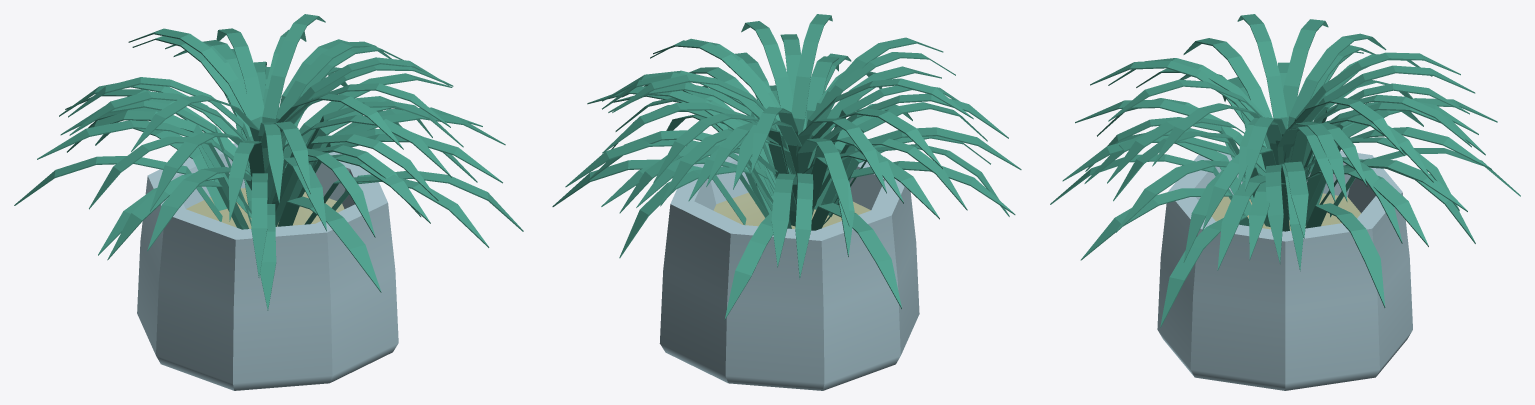
The model's file is Patio_Flower2.fbx.
The picture shows the model from 3 angles, left to right: view 1: azimuth 30°, elevation 25°; view 2: azimuth 150°, elevation 25°; view 3: azimuth 270°, elevation 25°; orthographic projection.
Visible parts, largest first — view 1: Patio_Flower2; view 2: Patio_Flower2; view 3: Patio_Flower2.
Part boxes in pixels (bbox=[...]): Patio_Flower2: bbox=[14, 14, 523, 390]; Patio_Flower2: bbox=[552, 14, 1021, 390]; Patio_Flower2: bbox=[1050, 14, 1520, 390].
Bounding box in the file's own units: 76.64 × 49.51 × 78.59.
